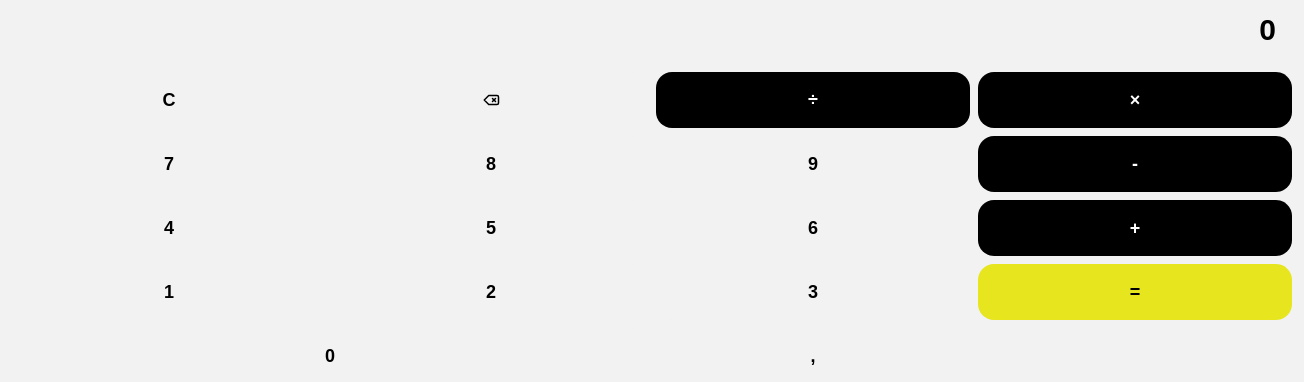
Scenario: Calculator › C clears everything, backspace removes the last digit
This screenshot has width=1304, height=382.
Click the button "1".
click(169, 292)  # box [12,264,326,320]
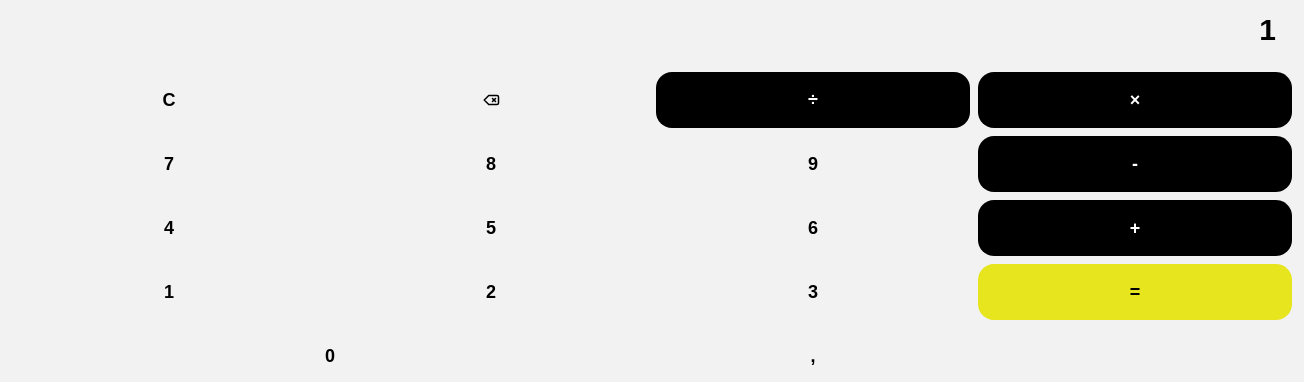
Click the button "2".
click(491, 292)  # box [334,264,648,320]
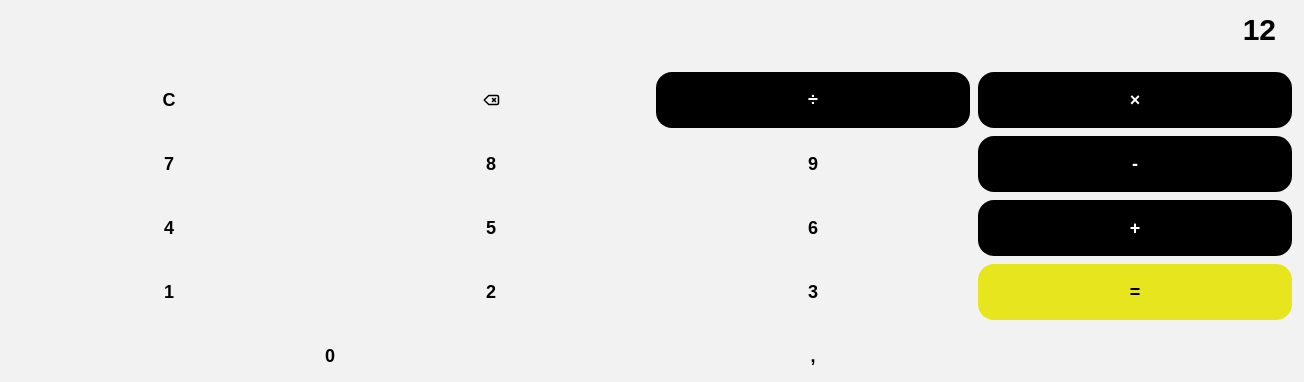
Click the button "3".
click(813, 292)  # box [656,264,970,320]
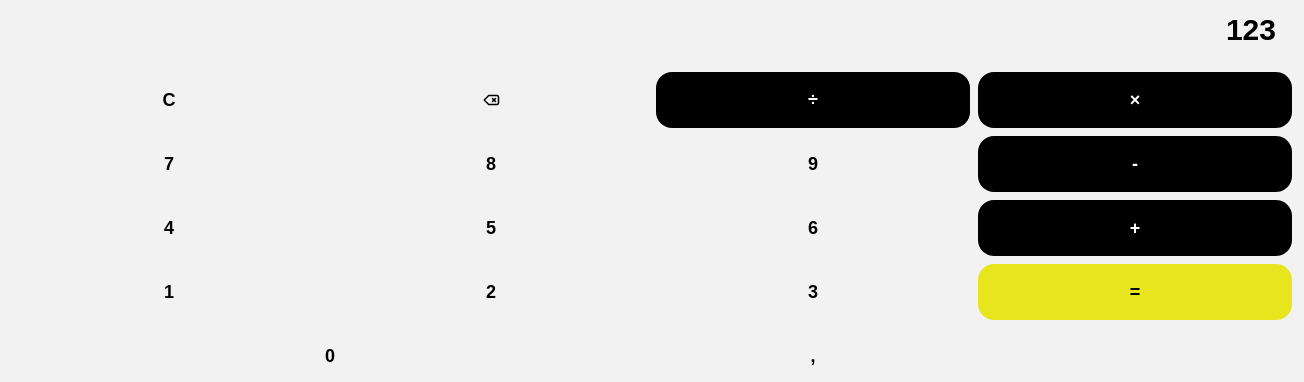
Click the button named "Apagar".
click(491, 100)  # box [334,72,648,128]
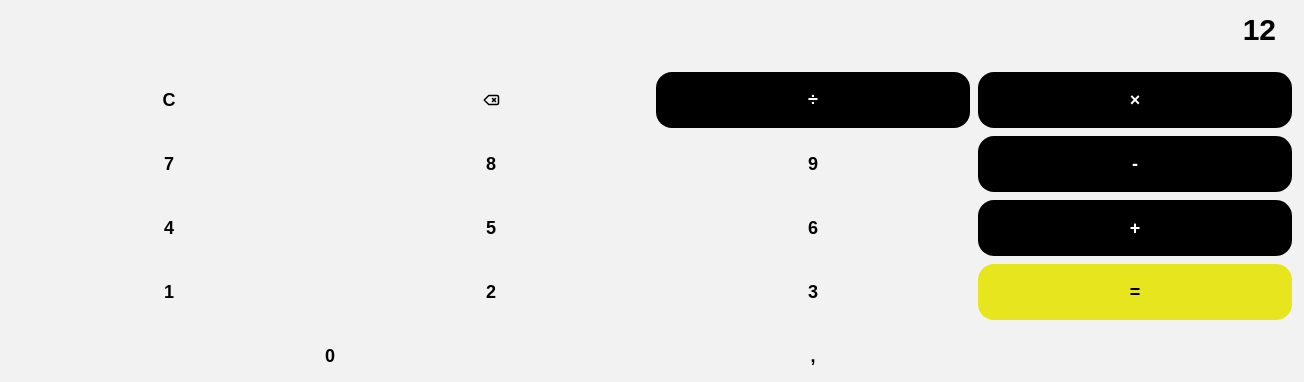
Expected: the text "12" is shown, [12,0,1292,60]
Click the button "C".
click(169, 100)  # box [12,72,326,128]
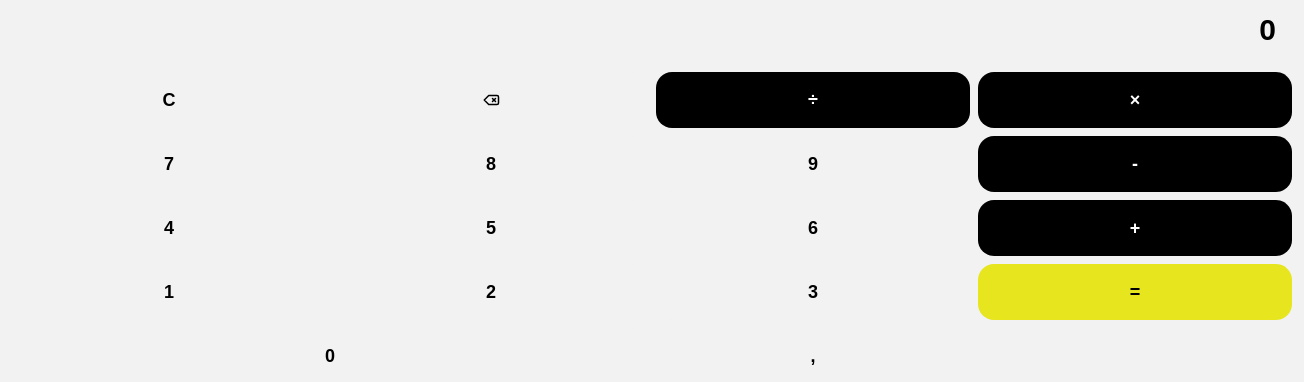
Expected: the text "0" is shown, [12,0,1292,60]
